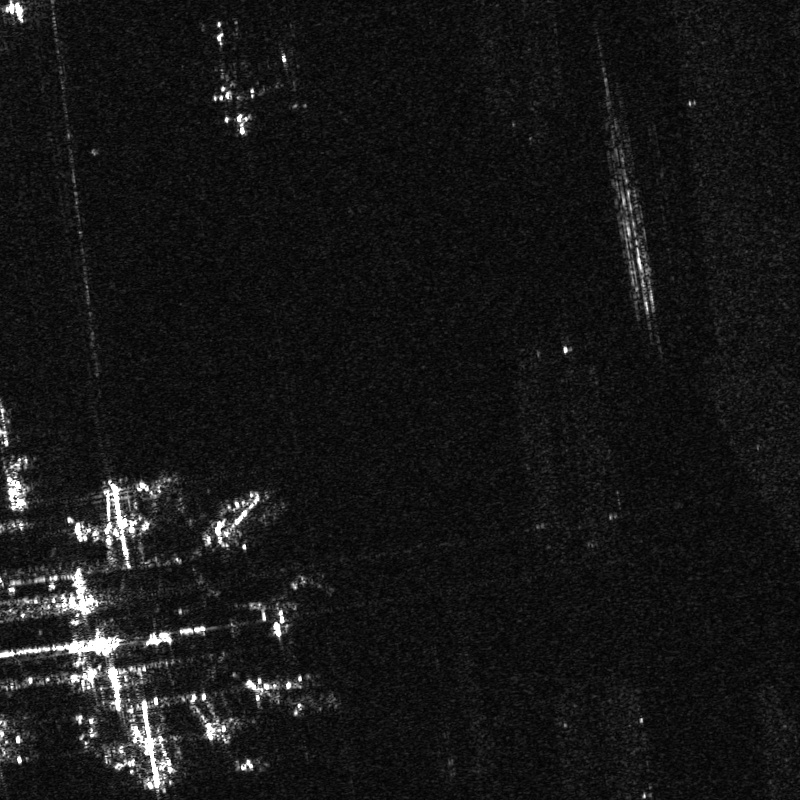Boeing787: (194, 40, 288, 144)
